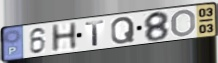6: (28, 26, 47, 54)
8: (142, 10, 171, 43)
H: (49, 21, 79, 54)
O: (170, 9, 197, 38)
Q: (110, 15, 136, 45)
T: (84, 19, 106, 47)
